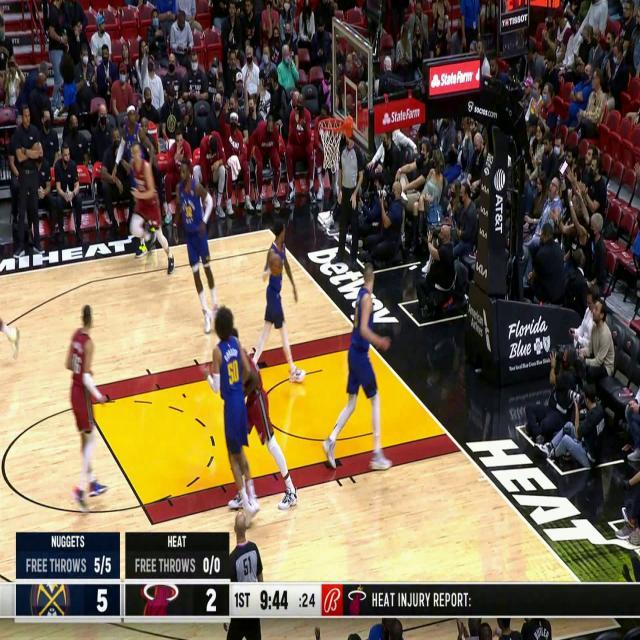rim: (268, 256, 282, 276)
